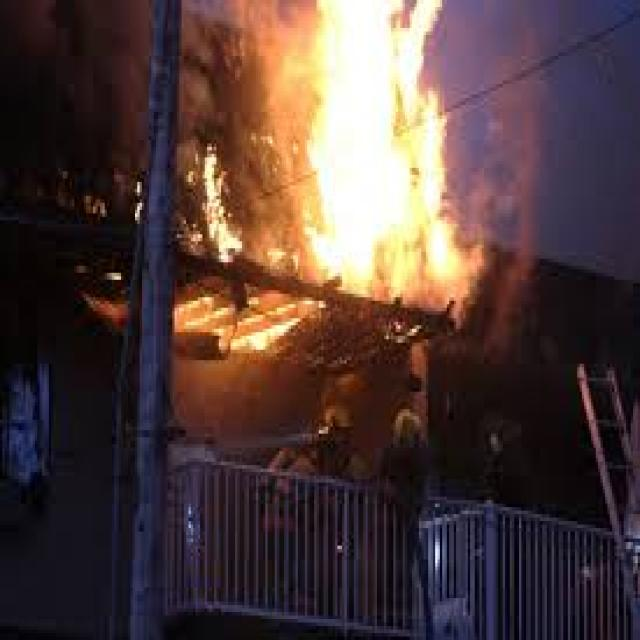fire: (305, 2, 437, 314)
